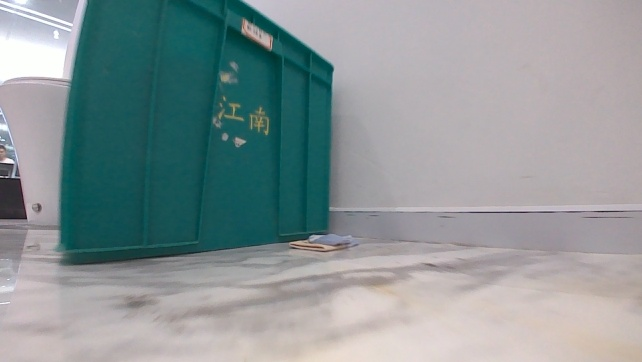socks: (284, 231, 361, 255)
toilet: (0, 74, 72, 226)
